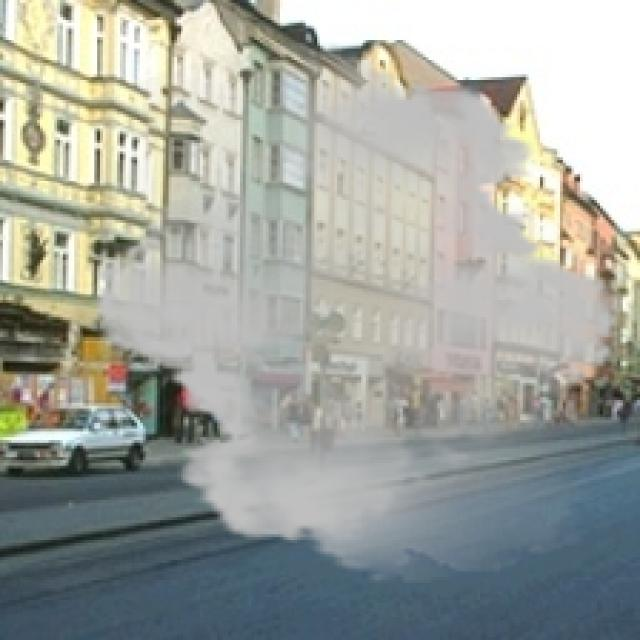smoke: (72, 43, 637, 586)
